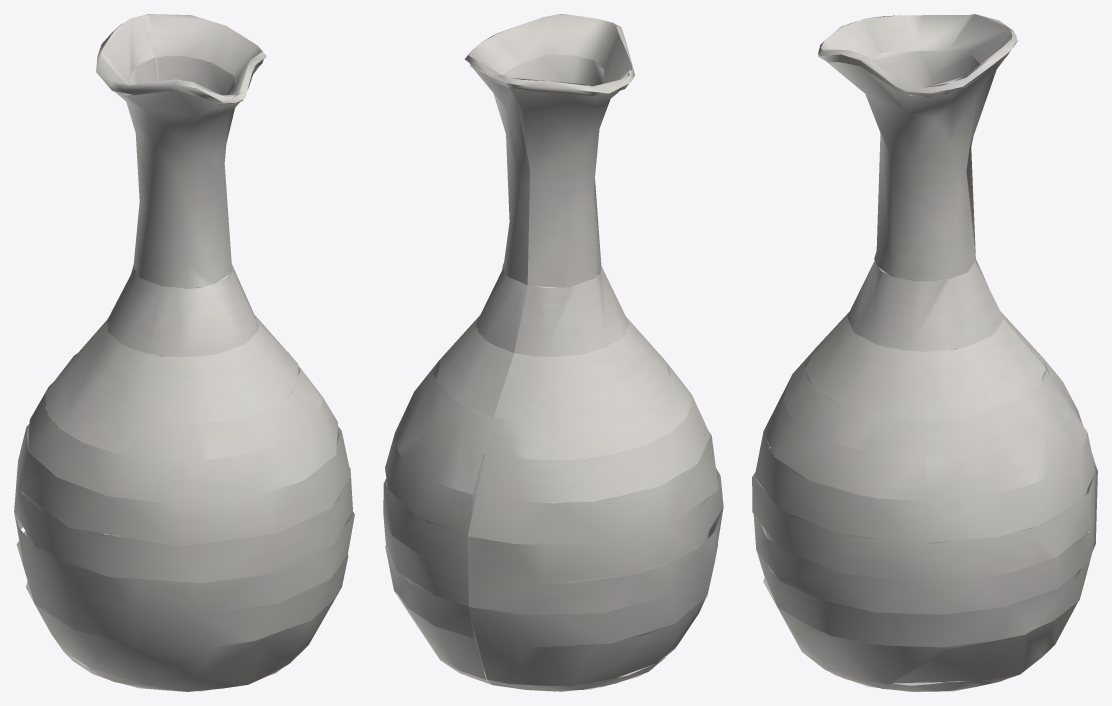
Rendered from isl_vase.glb.
3 views of the same model, side by side, from view 1: azimuth 30°, elevation 25°; view 2: azimuth 150°, elevation 25°; view 3: azimuth 270°, elevation 25° (orthographic).
Parts seen in each view (by area): view 1: ceramic_vase_01; view 2: ceramic_vase_01; view 3: ceramic_vase_01.
Part boxes in pixels (x1,y1,x2,y2): ceramic_vase_01: (14, 14, 354, 691); ceramic_vase_01: (383, 14, 723, 691); ceramic_vase_01: (752, 14, 1097, 691).
Size of the model in its own units: 0.2054 by 0.4019 by 0.2054.
Materials: 1 (1 with a texture image).
